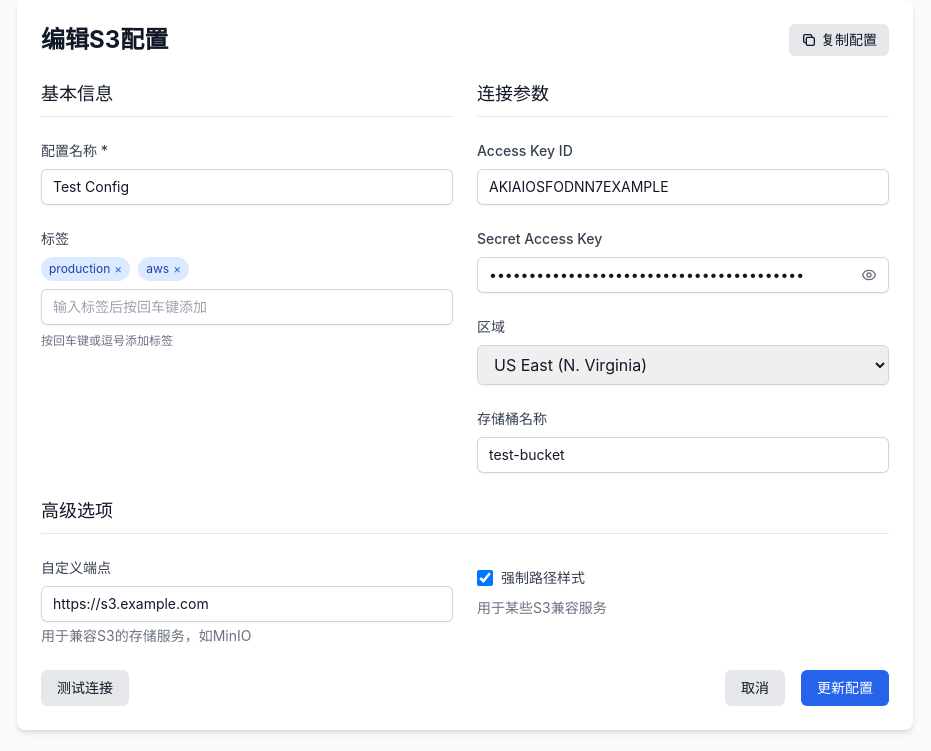
it: ConfigForm › Tag Management › should remove tags when X button is clicked
The width and height of the screenshot is (931, 751).
Click the button "×" next to "production": (118, 269) 114,261 -> 122,277
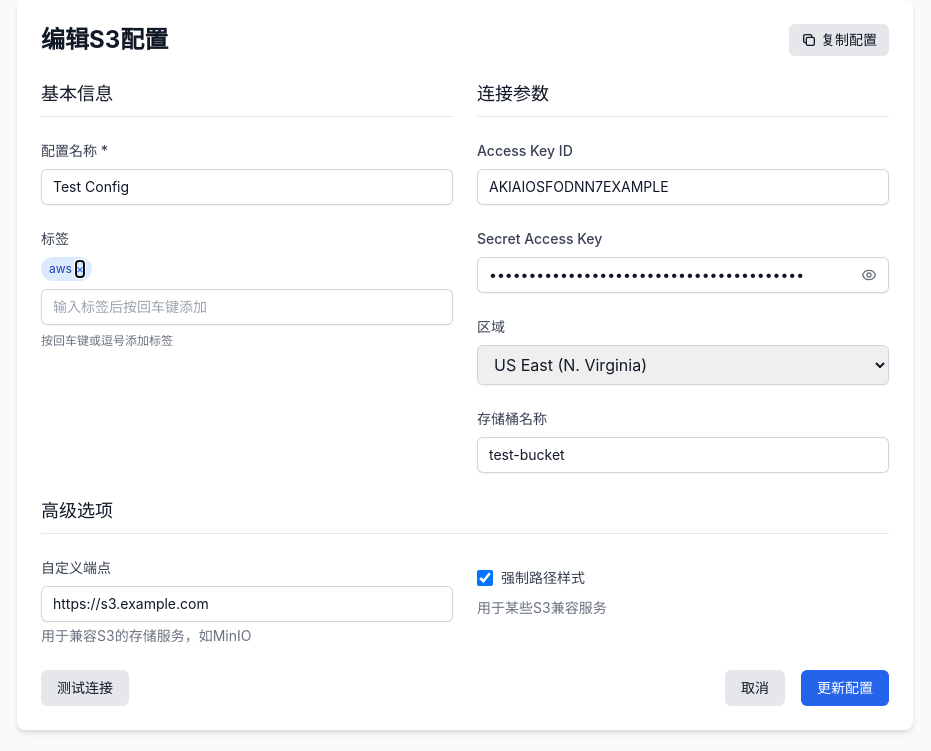
Expected: the text "production" is gone
